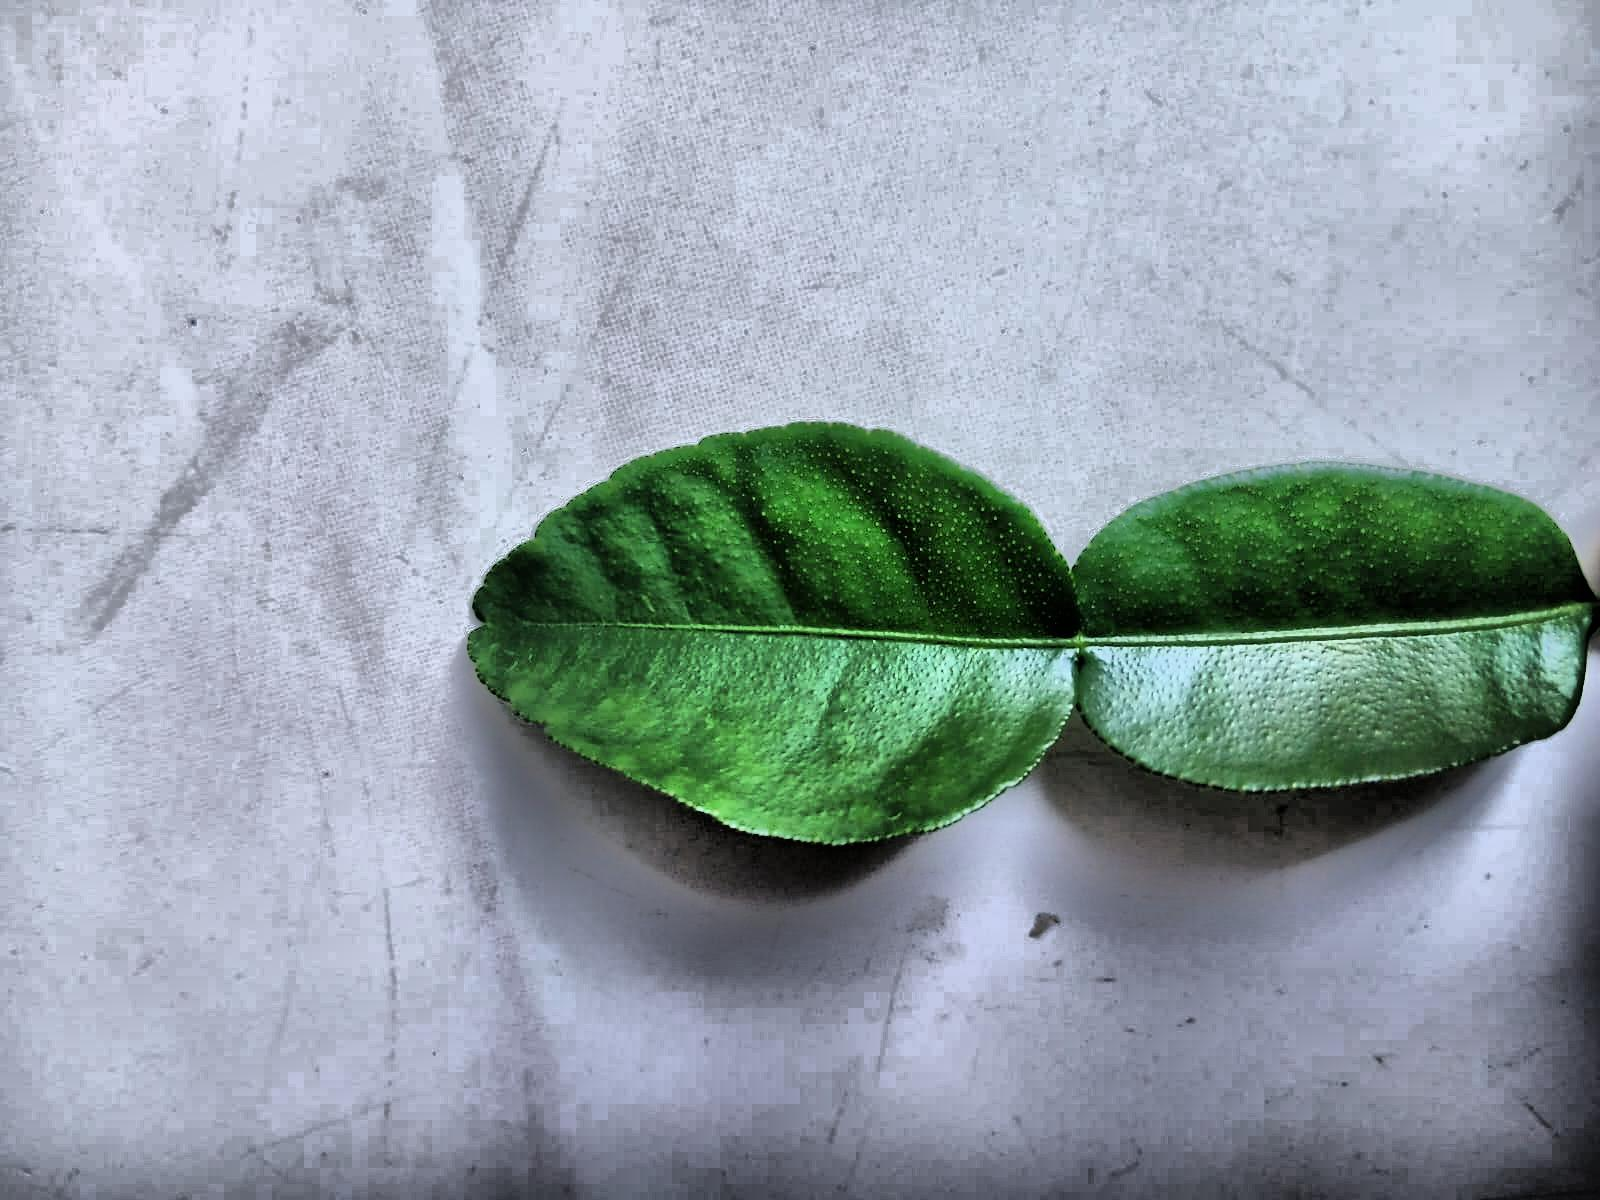daun jeruk: (467, 424, 1599, 843)
